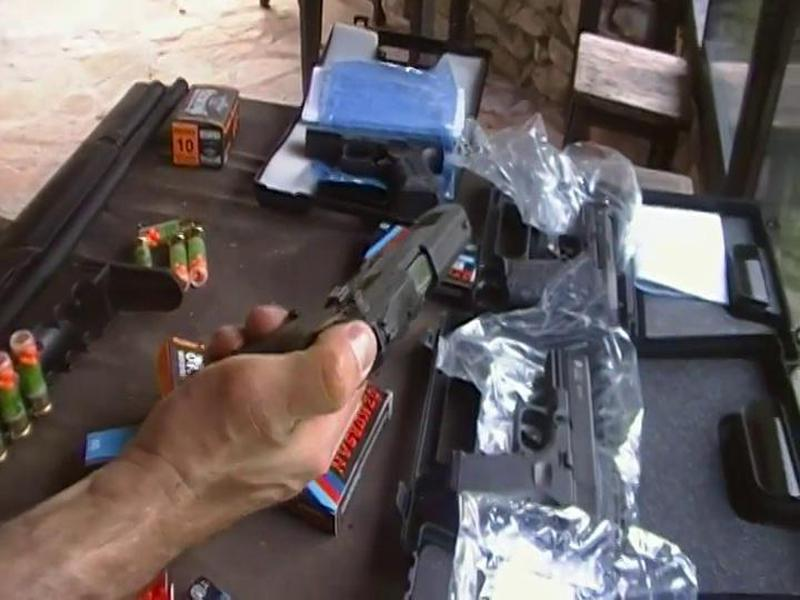Pistola: (233, 178, 481, 415)
